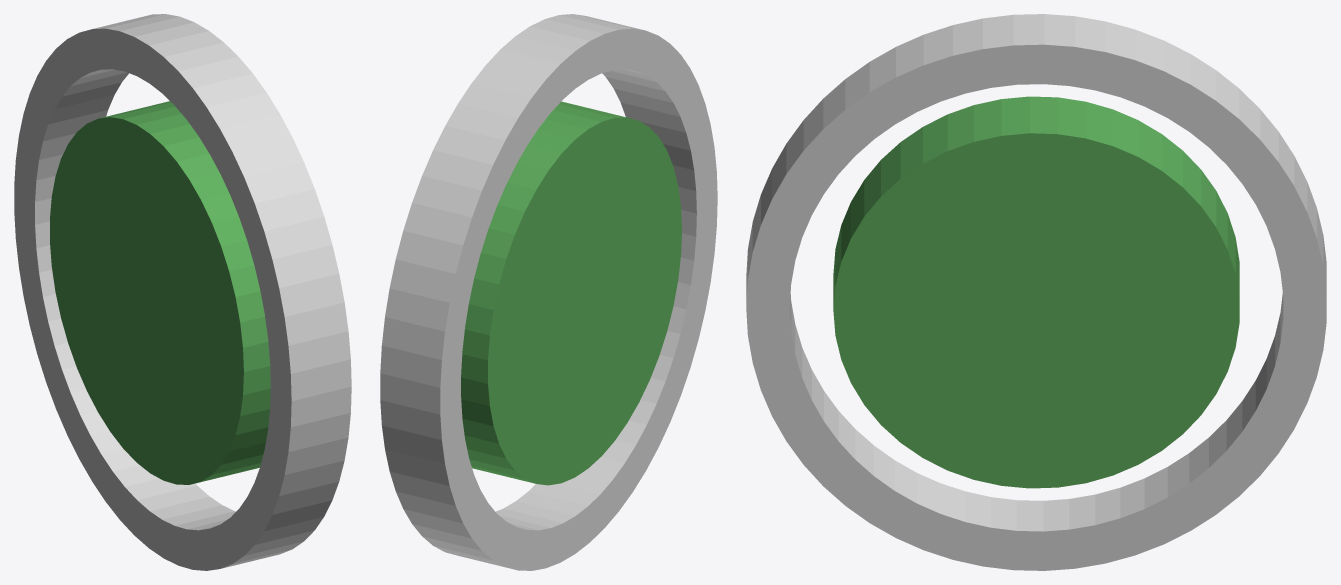
Rendered from pin_natural.glb.
3 views of the same model, side by side, from view 1: azimuth 30°, elevation 25°; view 2: azimuth 150°, elevation 25°; view 3: azimuth 270°, elevation 25° (orthographic). The views are drawn at different scales.
Visible parts, largest first — view 1: Mesh_Mesh_head_geo.001_lambert2SG.001; view 2: Mesh_Mesh_head_geo.001_lambert2SG.001; view 3: Mesh_Mesh_head_geo.001_lambert2SG.001.
Part boxes in pixels (x1,y1,x2,y2): Mesh_Mesh_head_geo.001_lambert2SG.001: (14, 14, 351, 570); Mesh_Mesh_head_geo.001_lambert2SG.001: (380, 14, 717, 570); Mesh_Mesh_head_geo.001_lambert2SG.001: (746, 14, 1326, 570).
Size of the model in its own units: 6 by 39.99 by 39.97.
